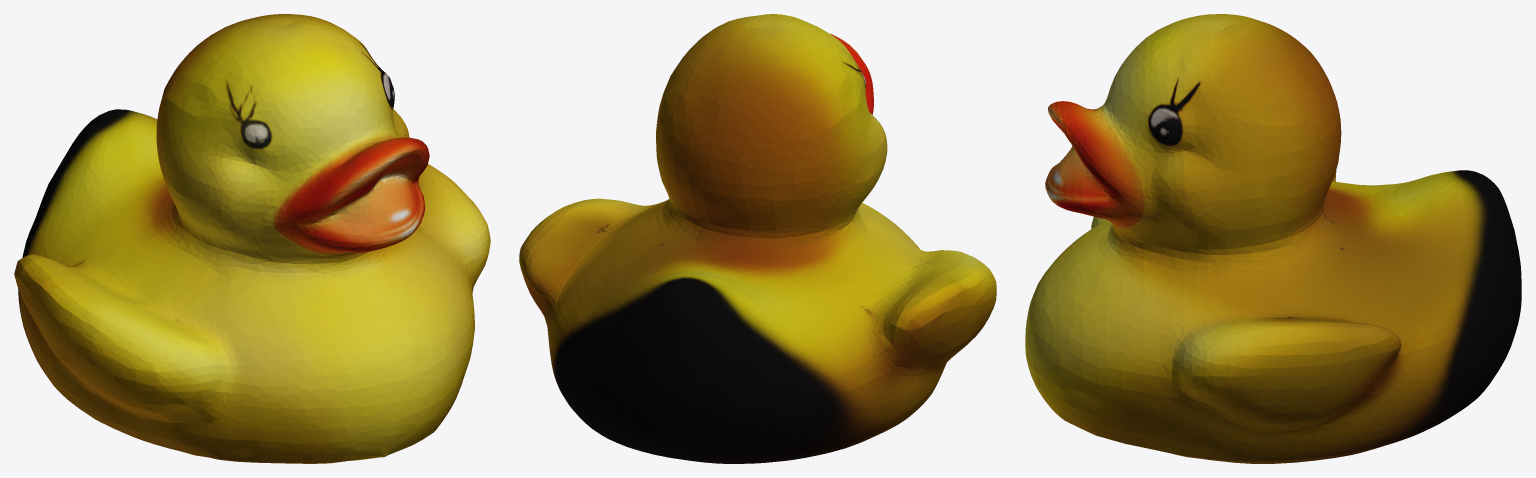
The picture shows the model from 3 angles, left to right: view 1: azimuth 30°, elevation 25°; view 2: azimuth 150°, elevation 25°; view 3: azimuth 270°, elevation 25°; orthographic projection. The views are drawn at different scales.
Parts seen in each view (by area): view 1: world; view 2: world; view 3: world.
Boxes of the visible parts, box(x1,y1,x2,y2) form: world: box(14, 14, 490, 463); world: box(519, 14, 996, 463); world: box(1025, 14, 1521, 463).
Bounding box in the file's own units: 0.9918 × 0.819 × 0.9933.
1 material, 1 textured.
